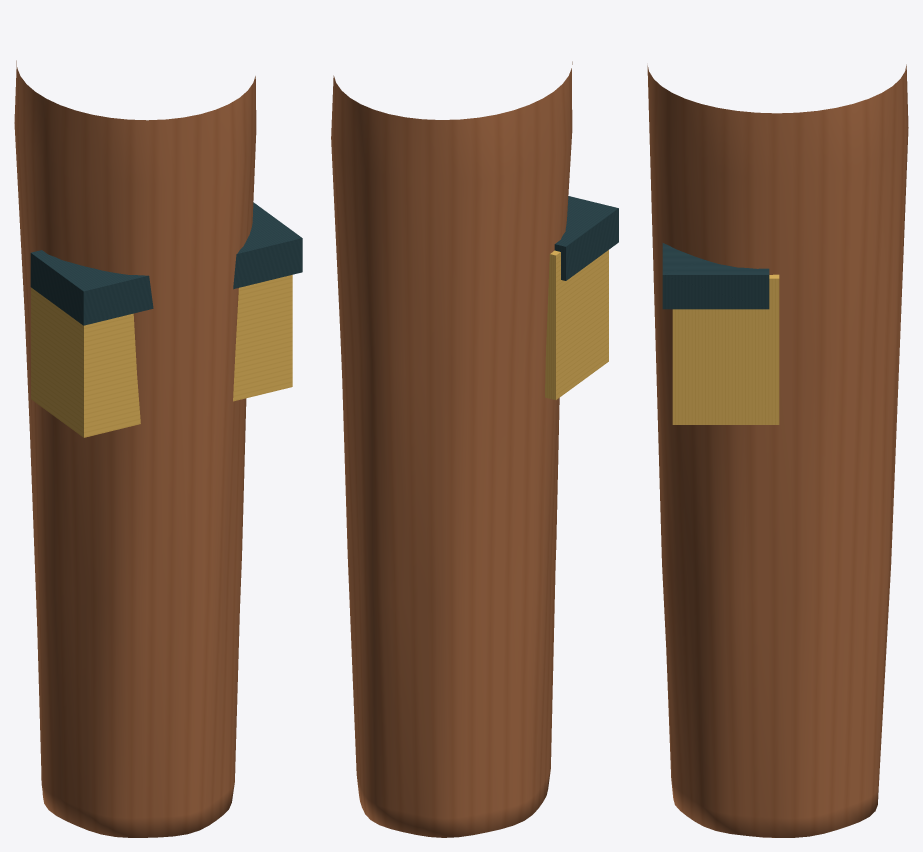
Rendered from workshop_cargos.gltf.
3 renders of one model, left to right at view 1: azimuth 30°, elevation 25°; view 2: azimuth 150°, elevation 25°; view 3: azimuth 270°, elevation 25°, orthographic.
Parts seen in each view (by area): view 1: LegL, LegR; view 2: LegL; view 3: LegL, LegR.
Part boxes in pixels (box(x1,y1,x2,y2)): LegL: box(14, 60, 256, 837); LegR: box(233, 202, 302, 401); LegL: box(331, 61, 618, 837); LegL: box(647, 64, 908, 837); LegR: box(662, 243, 779, 424).
Size of the model in its own units: 0.234 by 0.749 by 0.2397.
3 materials, 3 textured.
